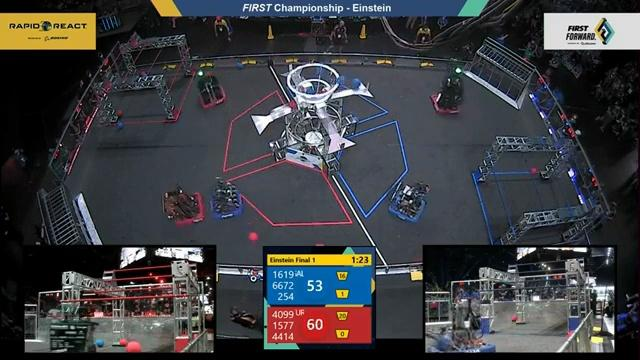robot: (386, 177, 433, 225), (160, 185, 206, 228), (209, 176, 245, 221), (431, 72, 463, 118), (193, 71, 227, 113)
